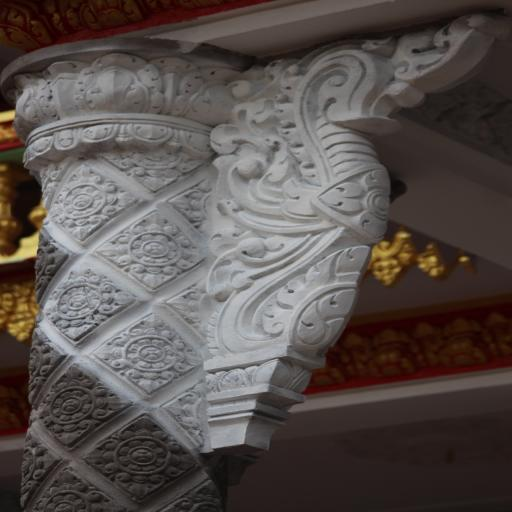hoa: (43, 158, 136, 238), (98, 424, 188, 498), (109, 218, 196, 278), (39, 371, 115, 439), (116, 320, 197, 378), (46, 267, 113, 333), (119, 140, 193, 188), (21, 333, 69, 392), (44, 474, 109, 512), (15, 442, 57, 493), (182, 177, 218, 224)
la: (215, 54, 365, 238), (212, 240, 369, 356), (66, 52, 160, 120), (11, 63, 80, 133), (160, 54, 221, 124)
